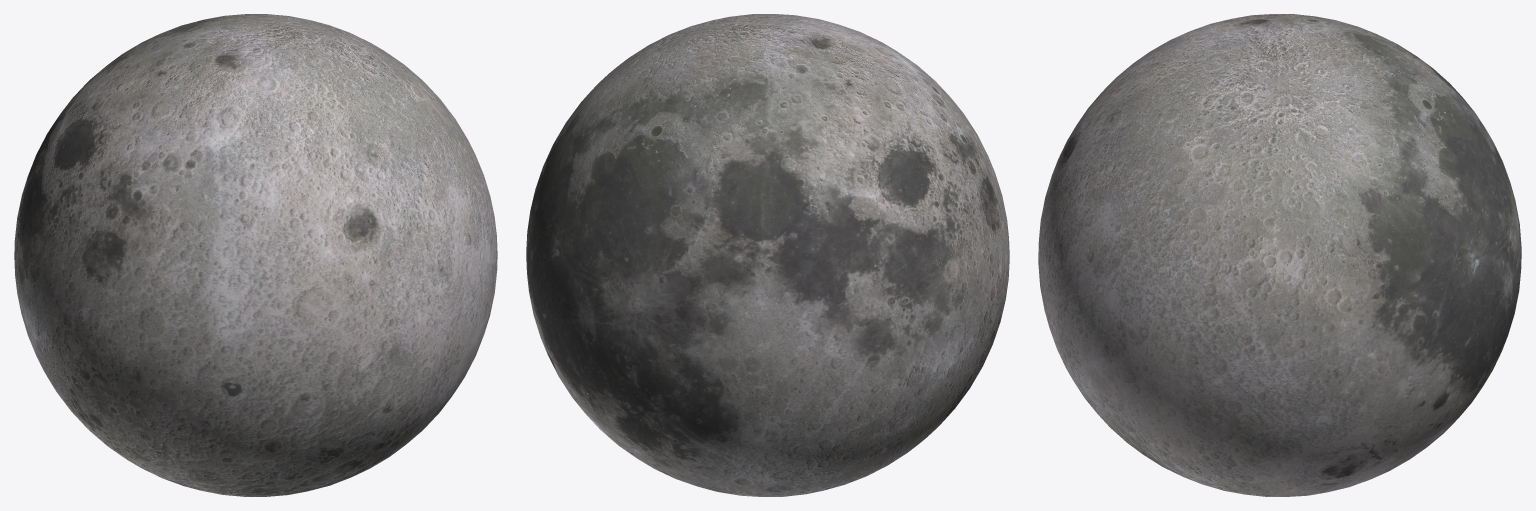
The model's file is lunarveil-moon.glb.
The picture shows the model from 3 angles, left to right: view 1: azimuth 30°, elevation 25°; view 2: azimuth 150°, elevation 25°; view 3: azimuth 270°, elevation 25°; orthographic projection.
Visible parts, largest first — view 1: moon; view 2: moon; view 3: moon.
Part boxes in pixels (x1,y1,x2,y2): moon: (14,14,497,496); moon: (526,14,1009,496); moon: (1038,14,1521,496).
Size of the model in its own units: 99.93 by 99.94 by 99.92.
1 material, 1 textured.
